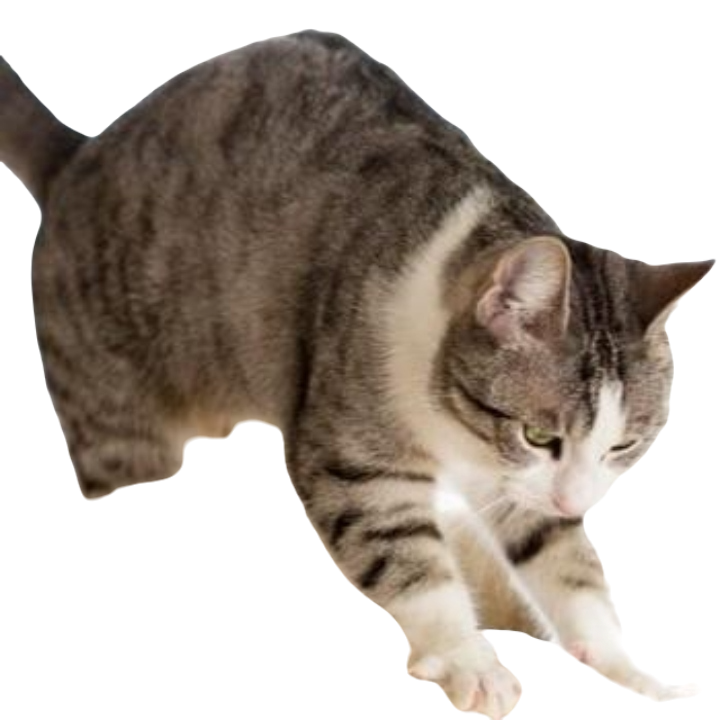Cat: (0, 19, 706, 719)
